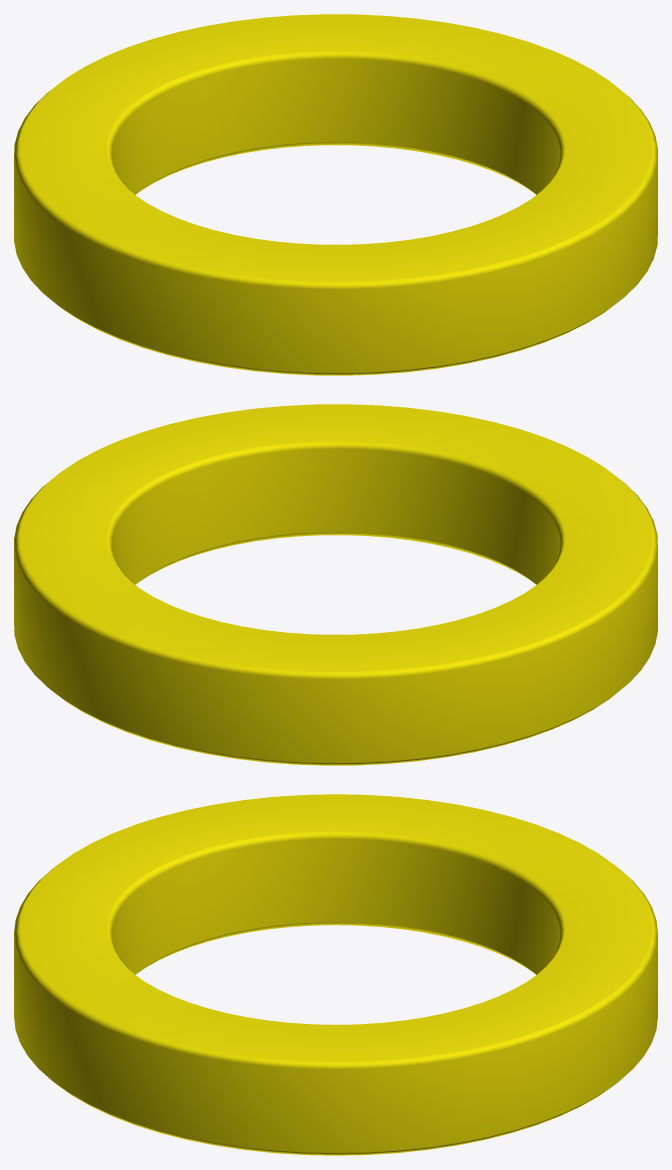
3 renders of one model, top to bottom at view 1: azimuth 30°, elevation 25°; view 2: azimuth 150°, elevation 25°; view 3: azimuth 270°, elevation 25°, orthographic.
Visible parts, largest first — view 1: seal_body; view 2: seal_body; view 3: seal_body.
Boxes of the visible parts, bbox=[...] form: seal_body: bbox=[14, 14, 657, 375]; seal_body: bbox=[14, 404, 657, 765]; seal_body: bbox=[14, 794, 657, 1155].
Bounding box in the file's own units: 0.0216 × 0.0035 × 0.0216.
